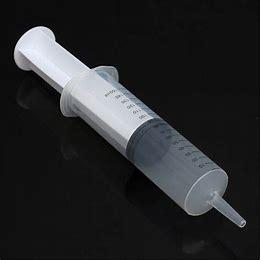Syringe: (12, 21, 252, 231)
